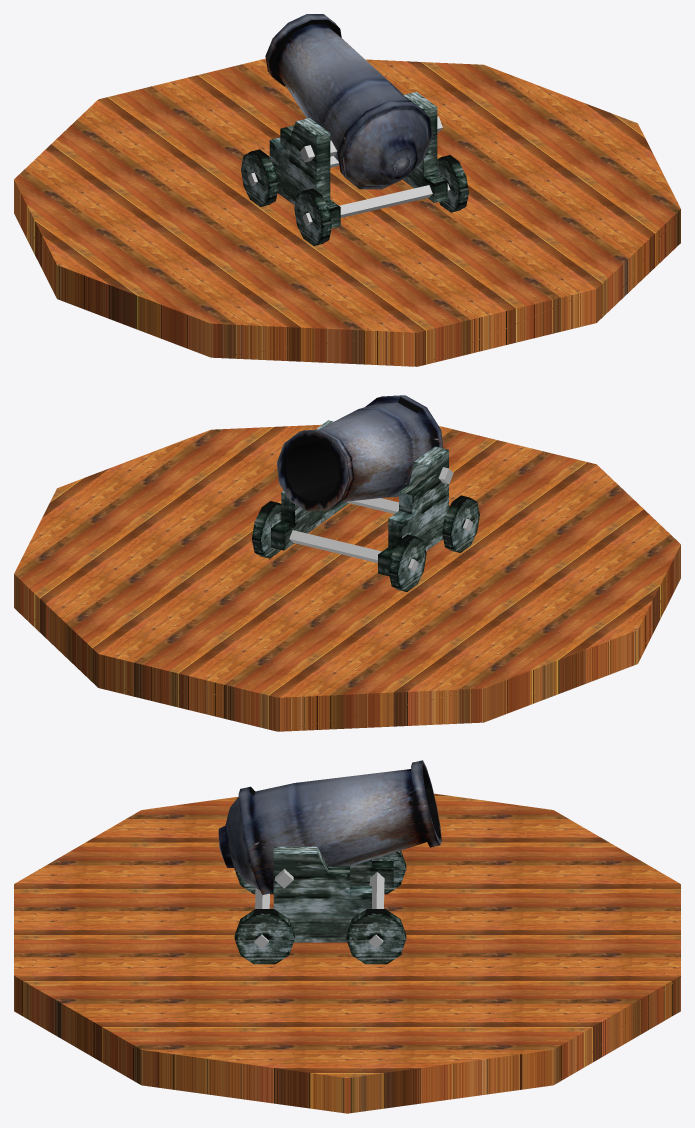
File: Big Cannon.FBX
3 renders of one model, top to bottom at view 1: azimuth 30°, elevation 25°; view 2: azimuth 150°, elevation 25°; view 3: azimuth 270°, elevation 25°, orthographic. The views are drawn at different scales.
Visible parts, largest first — view 1: Cylinder03, Line01, Line03, Line04, Cylinder05, Cylinder06, Box02, Cylinder01; view 2: Cylinder03, Line01, Line03, Line04, Cylinder05, Cylinder06, Box03, Cylinder07, Box02; view 3: Cylinder03, Line01, Line04, Cylinder07, Cylinder01, Line03, Box03, Cylinder06.
Boxes of the visible parts, x1=… form: Cylinder03: x1=14, y1=58, x2=680, y2=366; Line01: x1=265, y1=14, x2=432, y2=189; Line03: x1=269, y1=118, x2=340, y2=227; Line04: x1=402, y1=92, x2=447, y2=202; Cylinder05: x1=294, y1=188, x2=331, y2=245; Cylinder06: x1=241, y1=149, x2=278, y2=206; Box02: x1=302, y1=183, x2=450, y2=225; Cylinder01: x1=437, y1=155, x2=468, y2=212; Cylinder03: x1=14, y1=424, x2=680, y2=731; Line01: x1=276, y1=395, x2=443, y2=511; Line03: x1=378, y1=446, x2=449, y2=576; Line04: x1=271, y1=420, x2=348, y2=550; Cylinder05: x1=442, y1=495, x2=479, y2=552; Cylinder06: x1=389, y1=534, x2=426, y2=591; Box03: x1=289, y1=530, x2=418, y2=571; Cylinder07: x1=252, y1=501, x2=281, y2=558; Box02: x1=346, y1=498, x2=472, y2=531; Cylinder03: x1=14, y1=793, x2=680, y2=1113; Line01: x1=218, y1=760, x2=441, y2=894; Line04: x1=273, y1=846, x2=371, y2=942; Cylinder07: x1=346, y1=909, x2=406, y2=964; Cylinder01: x1=234, y1=909, x2=294, y2=964; Line03: x1=251, y1=859, x2=393, y2=887; Box03: x1=368, y1=872, x2=384, y2=948; Cylinder06: x1=372, y1=850, x2=406, y2=894.
Size of the model in its own units: 643 by 200 by 611.
